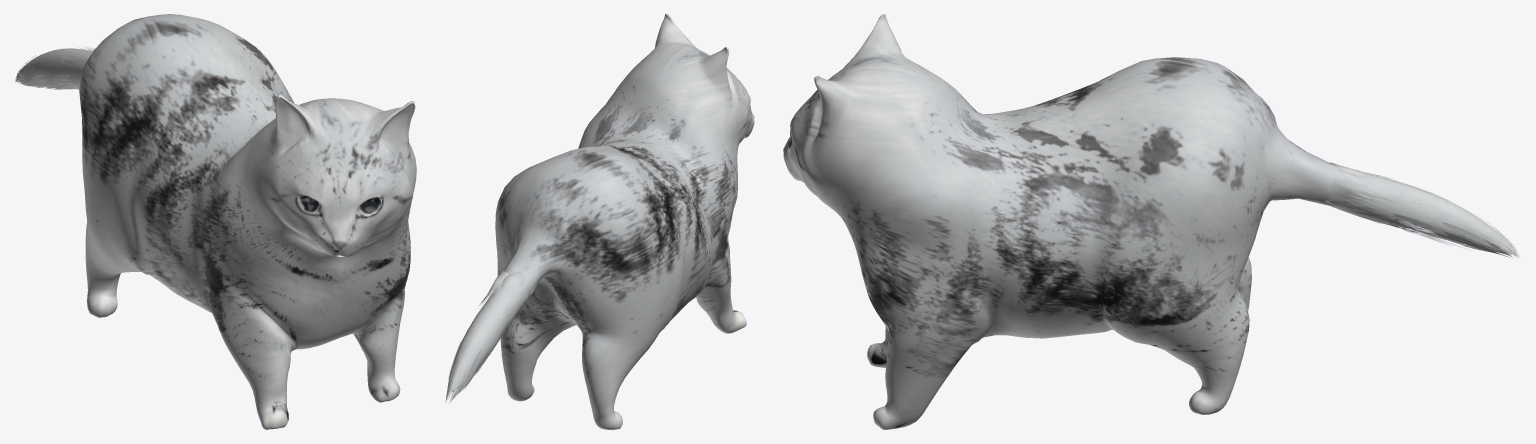
Rendered from cat-white.glb.
The picture shows the model from 3 angles, left to right: view 1: azimuth 30°, elevation 25°; view 2: azimuth 150°, elevation 25°; view 3: azimuth 270°, elevation 25°; orthographic projection. The views are drawn at different scales.
Visible parts, largest first — view 1: Muchkin1.002; view 2: Muchkin1.002; view 3: Muchkin1.002.
Part boxes in pixels (bbox=[...]): Muchkin1.002: bbox=[15, 14, 416, 429]; Muchkin1.002: bbox=[445, 14, 754, 429]; Muchkin1.002: bbox=[783, 14, 1519, 429].
Size of the model in its own units: 0.2392 by 0.3866 by 0.7242.
Materials: 1 (1 with a texture image).
